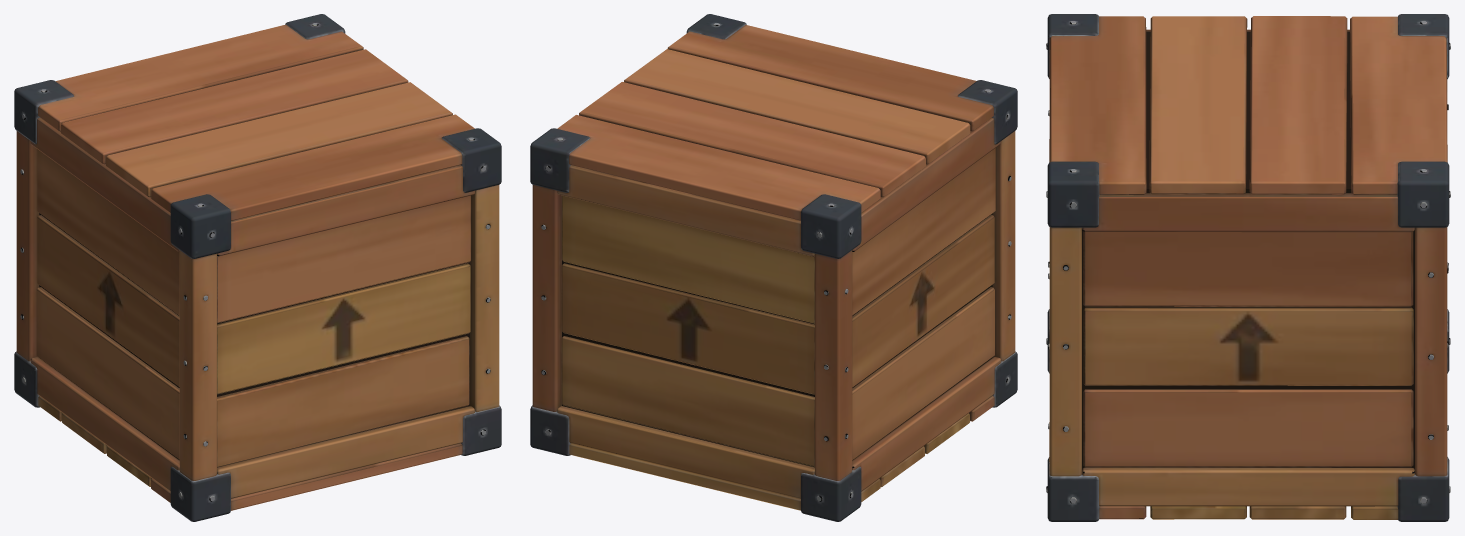
The model's file is crate.glb.
The picture shows the model from 3 angles, left to right: view 1: azimuth 30°, elevation 25°; view 2: azimuth 150°, elevation 25°; view 3: azimuth 270°, elevation 25°; orthographic projection. The views are drawn at different scales.
Visible parts, largest first — view 1: Crate; view 2: Crate; view 3: Crate.
Part boxes in pixels (x1,y1,x2,y2): Crate: [14, 14, 501, 521]; Crate: [530, 14, 1017, 521]; Crate: [1046, 14, 1450, 521].
Size of the model in its own units: 0.651 by 0.611 by 0.651.
1 material, 1 textured.
